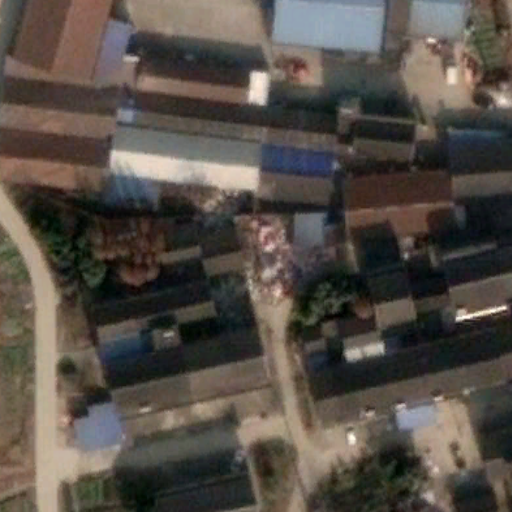msw: (243, 221, 320, 298)
